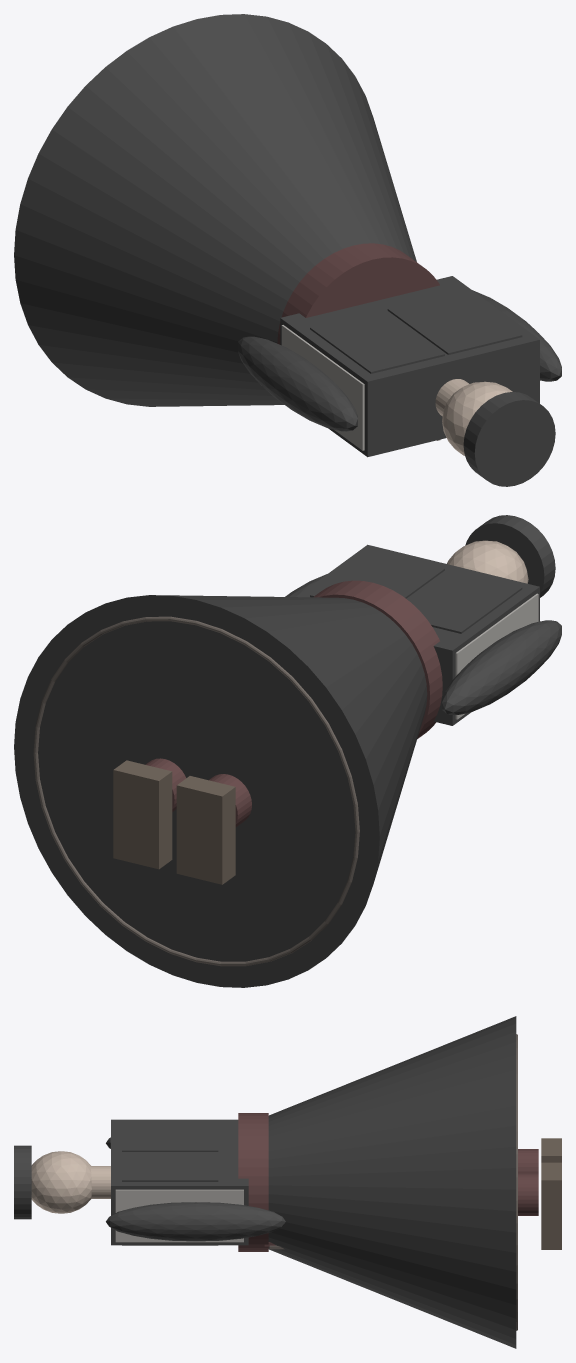
The model's file is MASTER_054_STAGE3_DETAIL.glb.
3 renders of one model, top to bottom at view 1: azimuth 30°, elevation 25°; view 2: azimuth 150°, elevation 25°; view 3: azimuth 270°, elevation 25°, orthographic. The views are drawn at different scales.
Visible parts, largest first — view 1: slot_lower_main__fund_i_gjatë, slot_upper_inner__këmishë, slot_waist__brez, slot_headwear__mbulesë_koke, slot_upper_inner_sleeve_L, slot_upper_outer__jelek_R, slot_upper_outer__jelek_L, mannequin_torso, mannequin_head, slot_upper_inner_sleeve_R; view 2: slot_lower_main__fund_i_gjatë, slot_footwear__opinga_R, slot_footwear__opinga_L, slot_upper_inner_sleeve_L, detail_skirt_hem, slot_waist__brez, slot_upper_inner__këmishë, slot_upper_outer__jelek_L, slot_headwear__mbulesë_koke, slot_upper_outer__jelek_R, mannequin_head, mannequin_torso (+2 smaller); view 3: slot_lower_main__fund_i_gjatë, slot_upper_inner_sleeve_R, slot_upper_inner__këmishë, mannequin_head, slot_waist__brez, slot_upper_outer__jelek_R, slot_upper_outer__jelek_L, mannequin_torso, slot_footwear__opinga_R, slot_headwear__mbulesë_koke, slot_legwear__çorape_R, mannequin_neck (+3 smaller).
Boxes of the visible parts, x1,y1,x2,y2 form: slot_lower_main__fund_i_gjatë: (14,14,416,406); slot_upper_inner__këmishë: (280,276,539,457); slot_waist__brez: (277,243,439,344); slot_headwear__mbulesë_koke: (463,392,555,486); slot_upper_inner_sleeve_L: (238,336,357,431); slot_upper_outer__jelek_R: (387,290,522,354); slot_upper_outer__jelek_L: (310,309,444,373); mannequin_torso: (281,325,364,450); mannequin_head: (442,381,512,455); slot_upper_inner_sleeve_R: (472,290,561,381); slot_lower_main__fund_i_gjatë: (14,595,427,987); slot_footwear__opinga_R: (113,760,172,869); slot_footwear__opinga_L: (176,776,235,884); slot_upper_inner_sleeve_L: (442,620,561,715); detail_skirt_hem: (33,616,359,966); slot_waist__brez: (313,580,442,738); slot_upper_inner__këmishë: (296,544,539,725); slot_upper_outer__jelek_L: (407,569,522,633); slot_headwear__mbulesë_koke: (465,515,555,597); slot_upper_outer__jelek_R: (310,550,444,598); mannequin_head: (447,540,528,583); mannequin_torso: (455,593,538,719); slot_lower_main__fund_i_gjatë: (268,1016,516,1348); slot_upper_inner_sleeve_R: (106,1202,285,1241); slot_upper_inner__këmishë: (111,1119,248,1245); mannequin_head: (31,1151,91,1213); slot_waist__brez: (238,1113,268,1251); slot_upper_outer__jelek_R: (122,1152,218,1245); slot_upper_outer__jelek_L: (122,1122,218,1151); mannequin_torso: (115,1189,243,1242); slot_footwear__opinga_R: (541,1162,561,1249); slot_headwear__mbulesë_koke: (14,1145,31,1219); slot_legwear__çorape_R: (518,1173,538,1215); mannequin_neck: (91,1166,110,1198).
Size of the model in its own units: 1.04 by 1.04 by 1.71.
